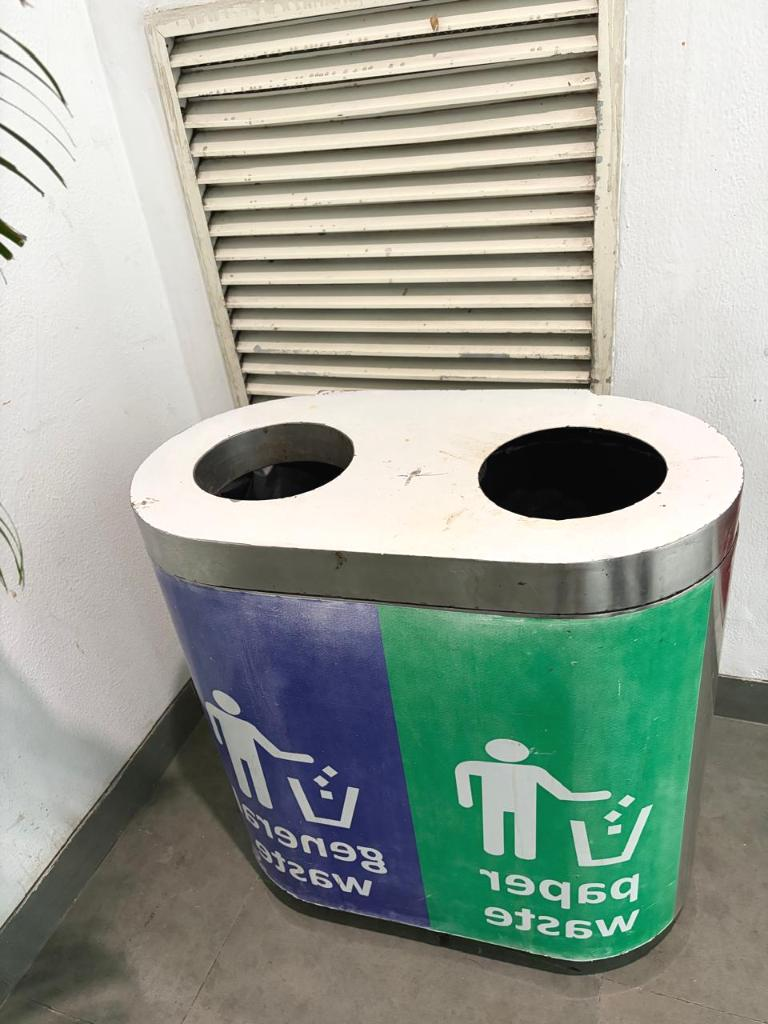dustbin: (118, 391, 759, 957)
